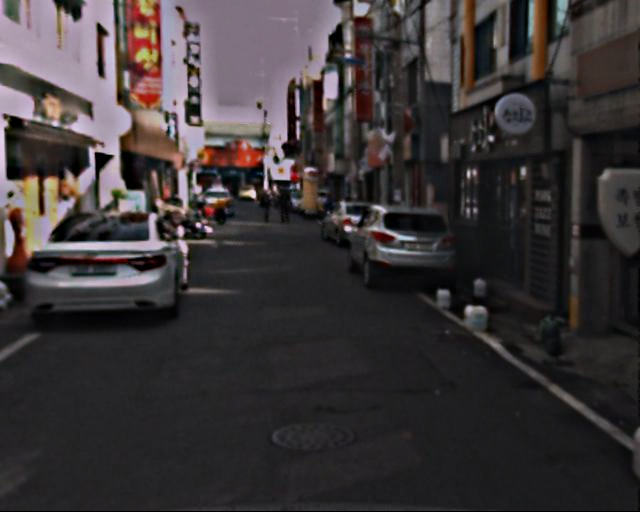person: (275, 182, 294, 229), (259, 186, 275, 224)
